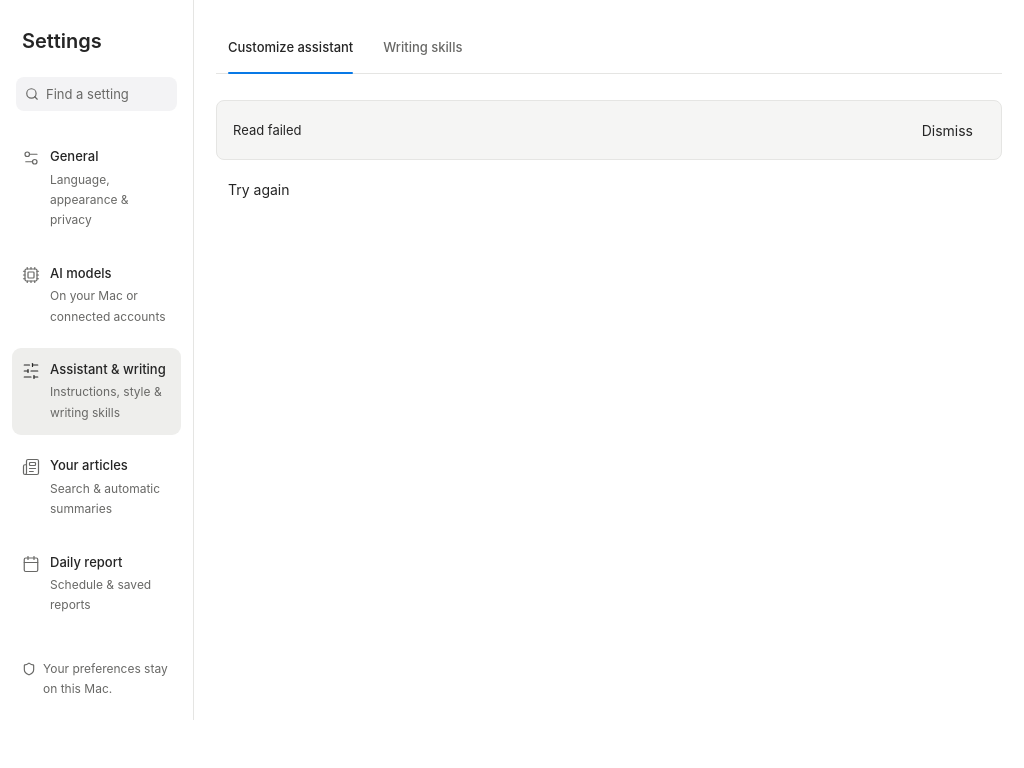
Test: keeps editors unavailable until saved settings load and allows a failed load to retry
This screenshot has width=1024, height=768.
Expected: the message "Read failed Dismiss" is shown, [216,100,1002,160]
Expected: the field labelled "Role & expertise" is not shown
Click the button "Try again" at (259, 189), box [216,172,302,206]
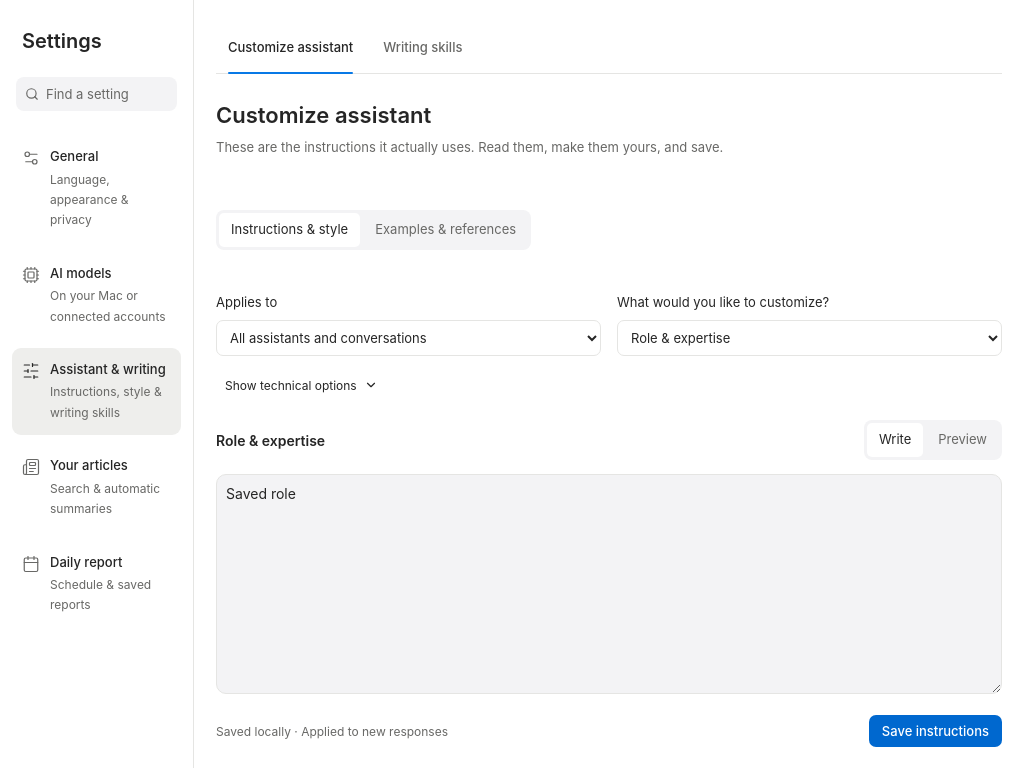
Result: the text box showing "Saved role" is shown at [216,474,1002,694]
